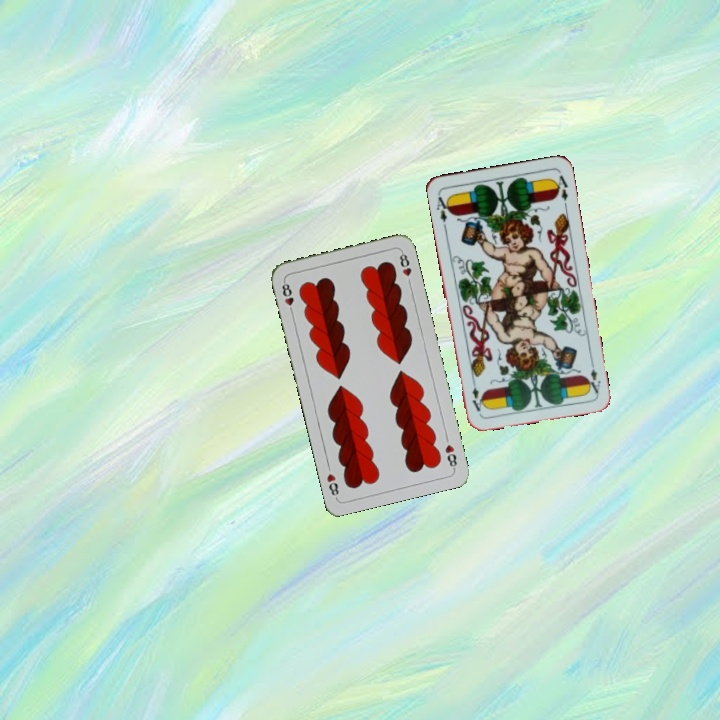EA: (583, 356, 603, 396), (432, 190, 454, 225)
H8: (278, 277, 296, 317), (441, 440, 460, 472)
